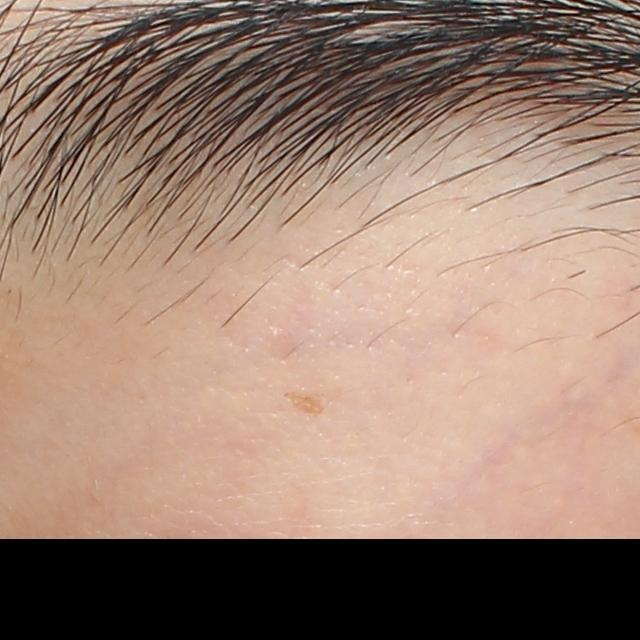melasma: (282, 388, 328, 417)
